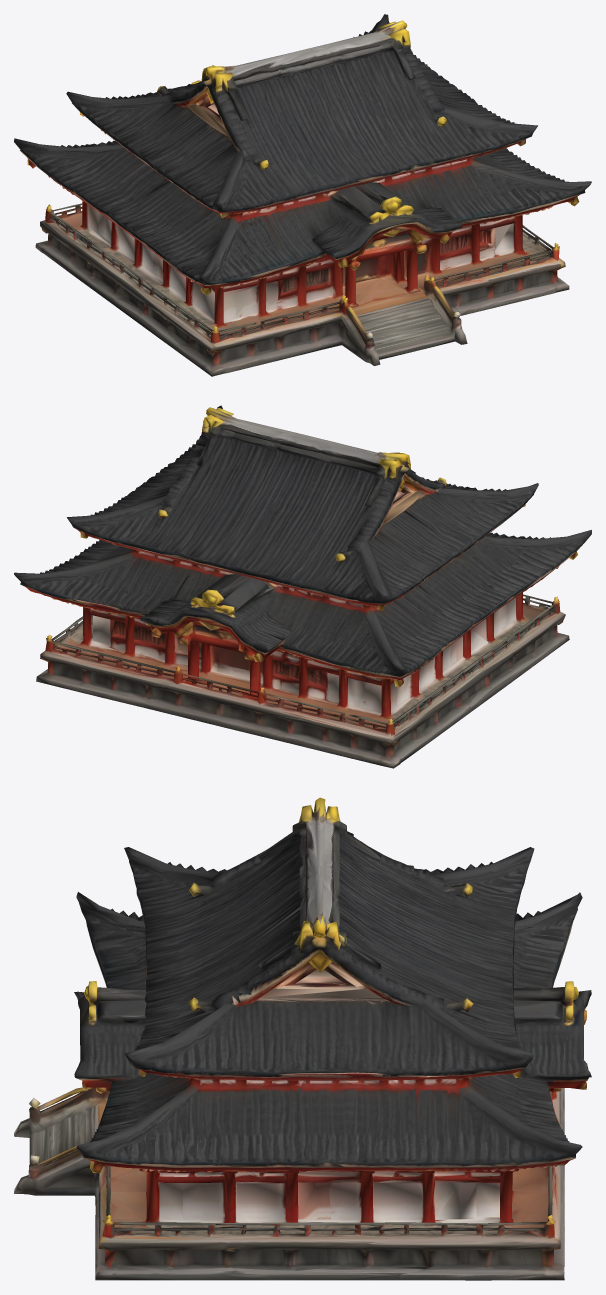
Rendered from bld_japan_temple.fbx.
3 renders of one model, top to bottom at view 1: azimuth 30°, elevation 25°; view 2: azimuth 150°, elevation 25°; view 3: azimuth 270°, elevation 25°, orthographic. The views are drawn at different scales.
Visible parts, largest first — view 1: bld_japan_temple_LOD0; view 2: bld_japan_temple_LOD0; view 3: bld_japan_temple_LOD0.
Part boxes in pixels (box(x1,y1,x2,y2)): bld_japan_temple_LOD0: box(14, 14, 591, 376); bld_japan_temple_LOD0: box(14, 405, 591, 768); bld_japan_temple_LOD0: box(14, 797, 591, 1280).
Size of what is drawn, in the model's own units: 0.98 by 0.5435 by 0.9386.
